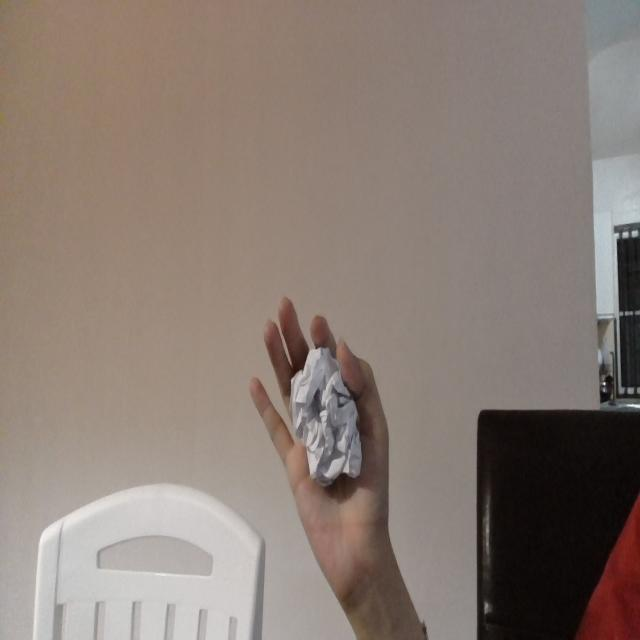crumpled_paper: (288, 339, 366, 494)
